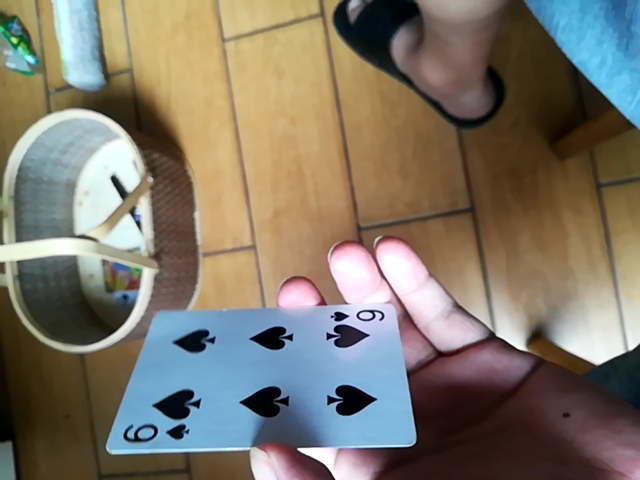ht 6: (102, 301, 416, 454)
